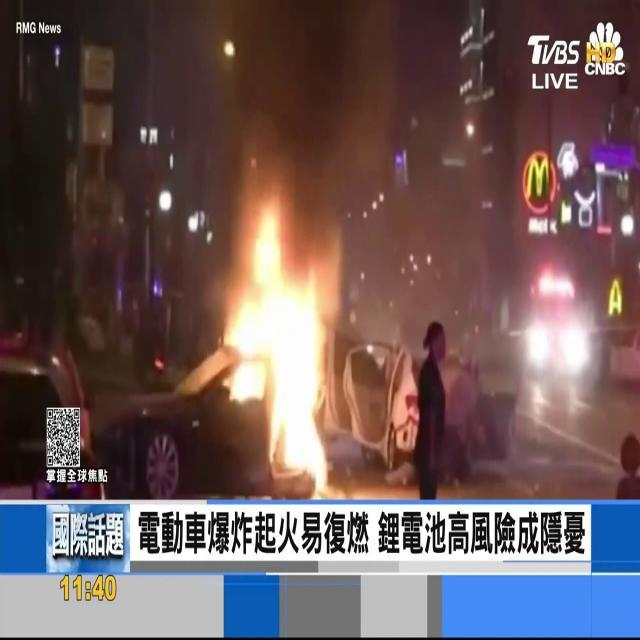Fire: (218, 201, 338, 492)
Smoke: (212, 1, 410, 251)
